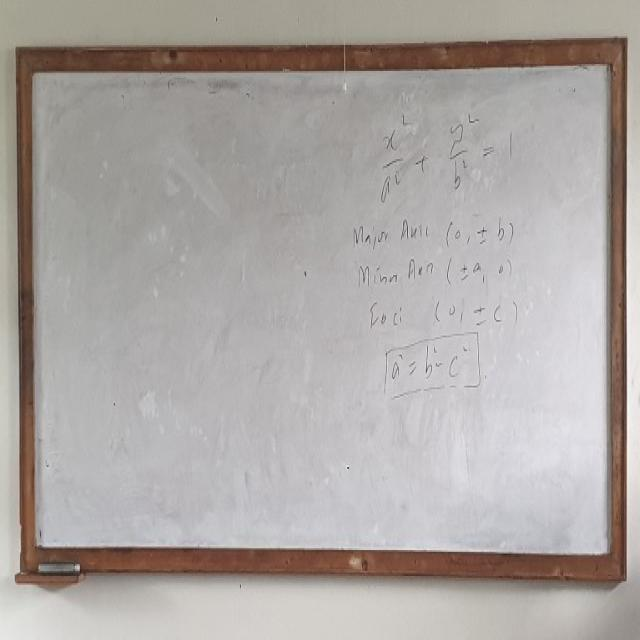White-board: (26, 54, 618, 573)
